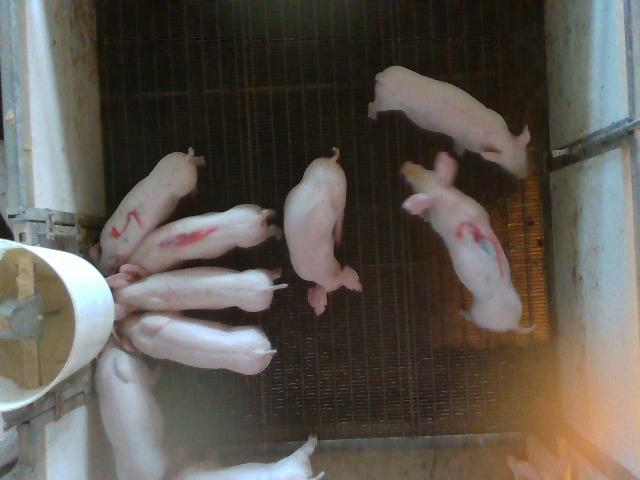pig-1: (128, 204, 282, 273)
pig-3: (401, 152, 535, 333)
pig-5: (98, 149, 205, 276)
